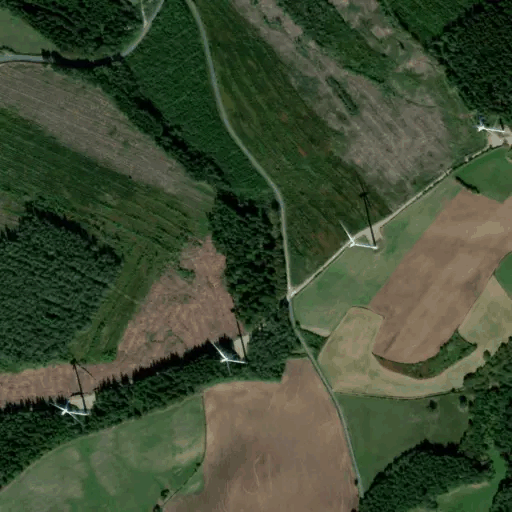wt: (45, 344, 95, 430), (206, 290, 254, 379), (337, 167, 381, 260), (468, 82, 512, 147)
